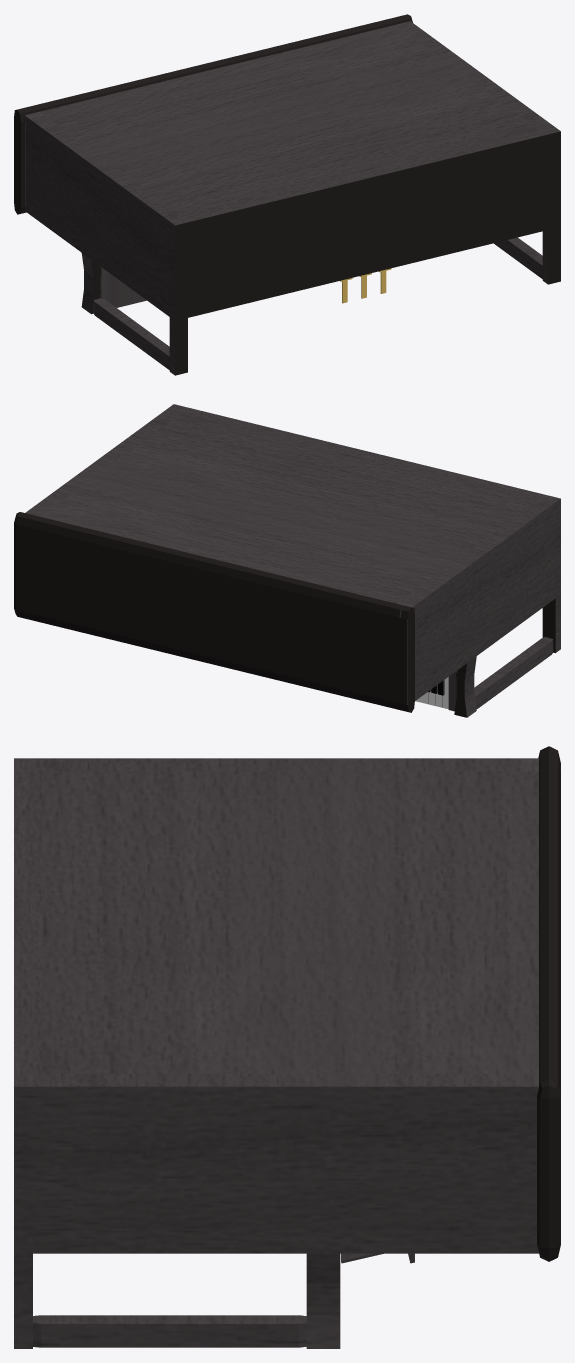
File: klavier.fbx
The picture shows the model from 3 angles, top to bottom: view 1: azimuth 30°, elevation 25°; view 2: azimuth 150°, elevation 25°; view 3: azimuth 270°, elevation 25°; orthographic projection. The views are drawn at different scales.
Visible parts, largest first — view 1: Cube.084; view 2: Cube.084; view 3: Cube.084.
Boxes of the visible parts, box(x1,y1,x2,y2) form: Cube.084: box(14, 14, 560, 375); Cube.084: box(14, 404, 560, 717); Cube.084: box(14, 746, 560, 1348).
Size of the model in its own units: 3.2 by 1.2 by 2.2.
1 material, 1 textured.
